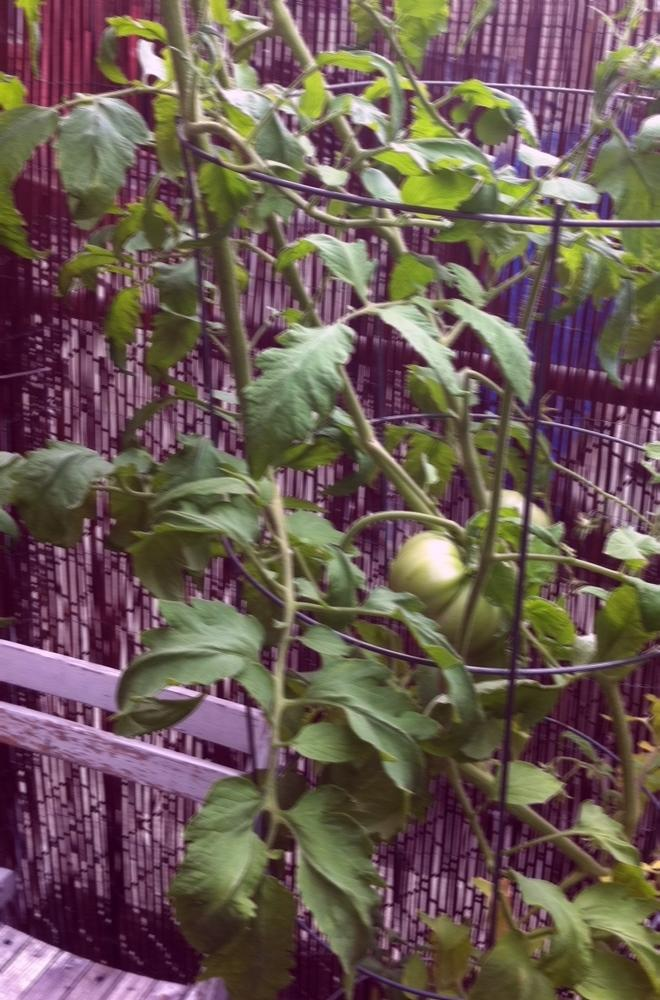Tomato leaf: (237, 306, 369, 461), (54, 93, 161, 254), (433, 288, 537, 408), (175, 822, 269, 954), (120, 610, 260, 697), (294, 806, 388, 905), (607, 135, 660, 291)
